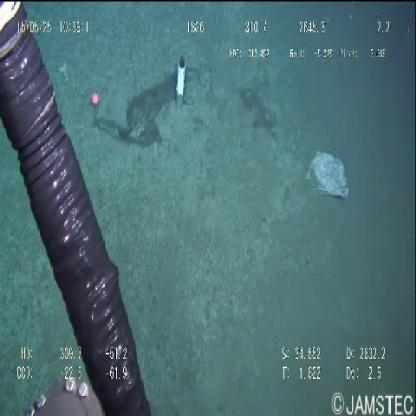Rác: (306, 153, 350, 201)
